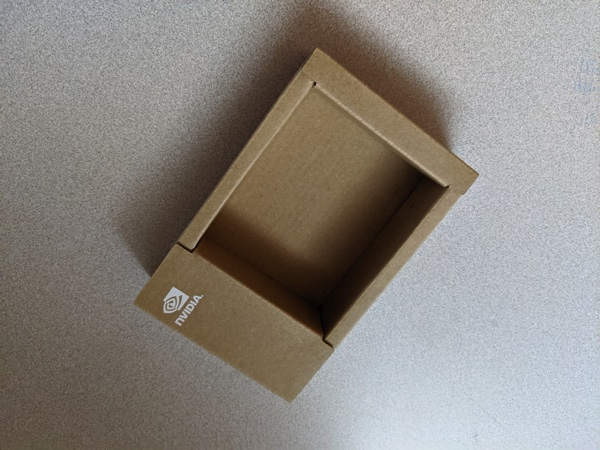cardboard: (112, 35, 489, 419)
